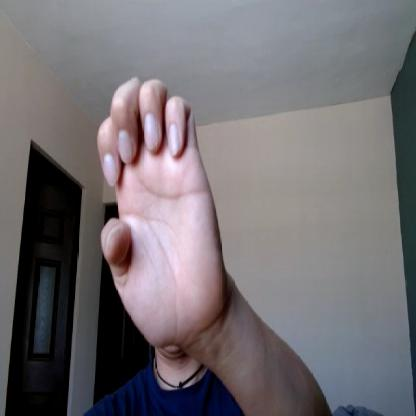E: (96, 76, 227, 348)
